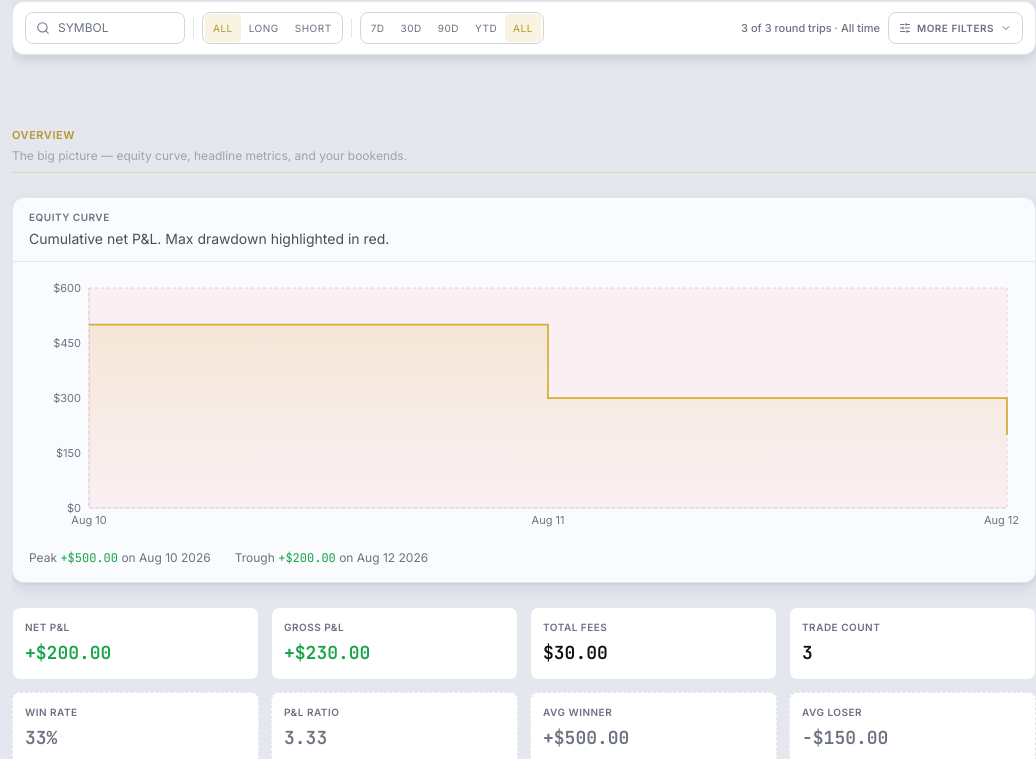
T5 with a 7D range active, no visible label reads "all time" › nothing anywhere on the tab claims all time
Click the button "7D". click: (378, 28)
box: x1=363 y1=14 x2=392 y2=42
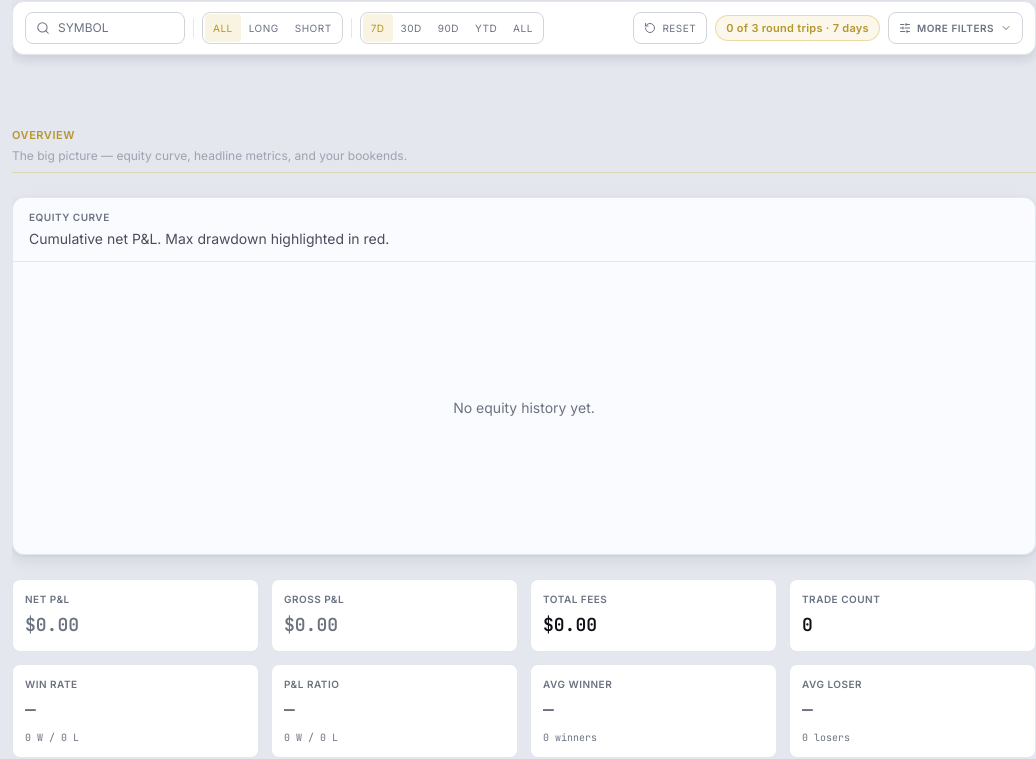
Expected: the text "All time" is gone
